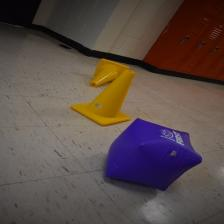cone: (70, 69, 136, 126), (90, 58, 130, 87)
cube: (105, 118, 202, 191)
